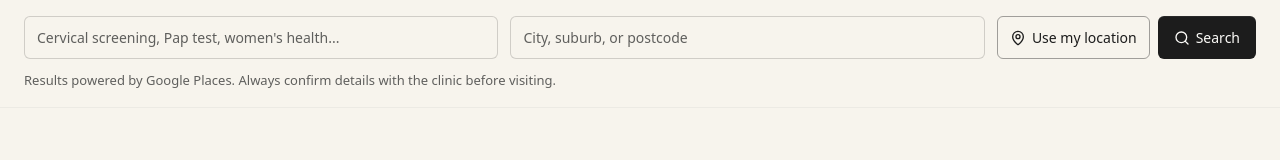
ClinicSearchBar geolocation › on denied (error code 1): shows the inline denied message
Click the button "Use my location": {"x": 1073, "y": 38} [997,16,1150,59]
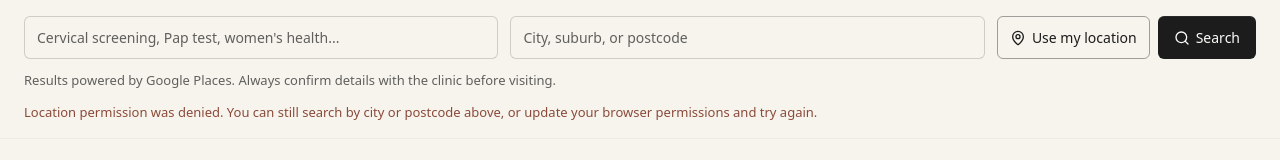
expect the text "Location permission was denied" is shown: met, box [24,102,817,120]
